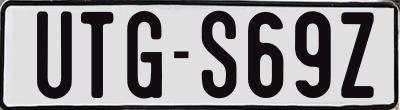6: (248, 10, 287, 97)
9: (293, 9, 333, 96)
G: (125, 9, 166, 103)
S: (201, 11, 238, 99)
T: (80, 12, 113, 98)
U: (34, 10, 72, 102)
Z: (341, 11, 374, 97)
